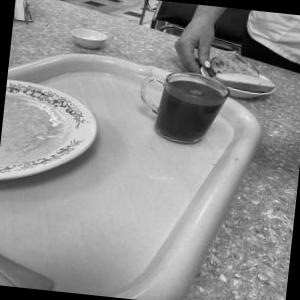coffee: (148, 65, 231, 154)
porridge: (0, 75, 80, 182)
